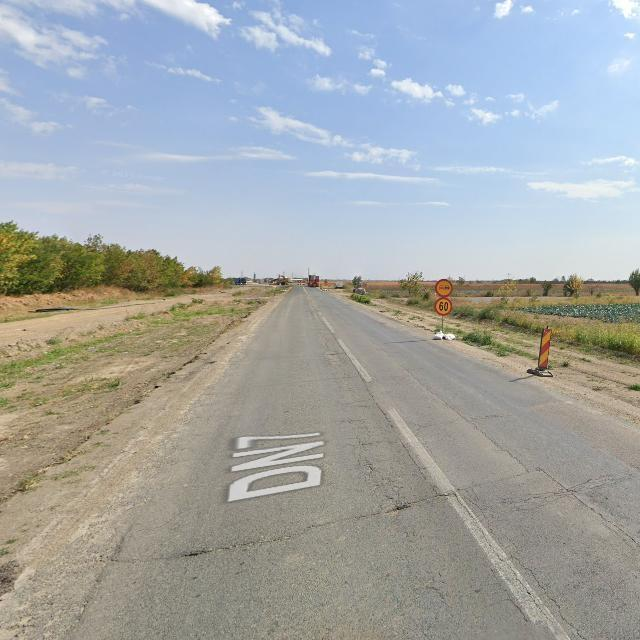forb_overtake: (435, 279, 453, 298)
forb_speed_over_60: (434, 298, 452, 316)
